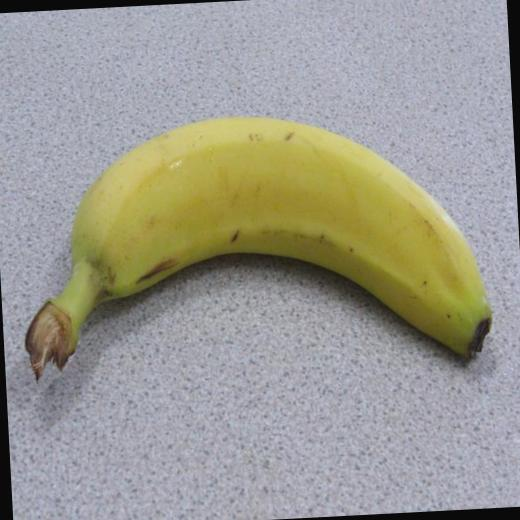Banana: (11, 103, 495, 393)
